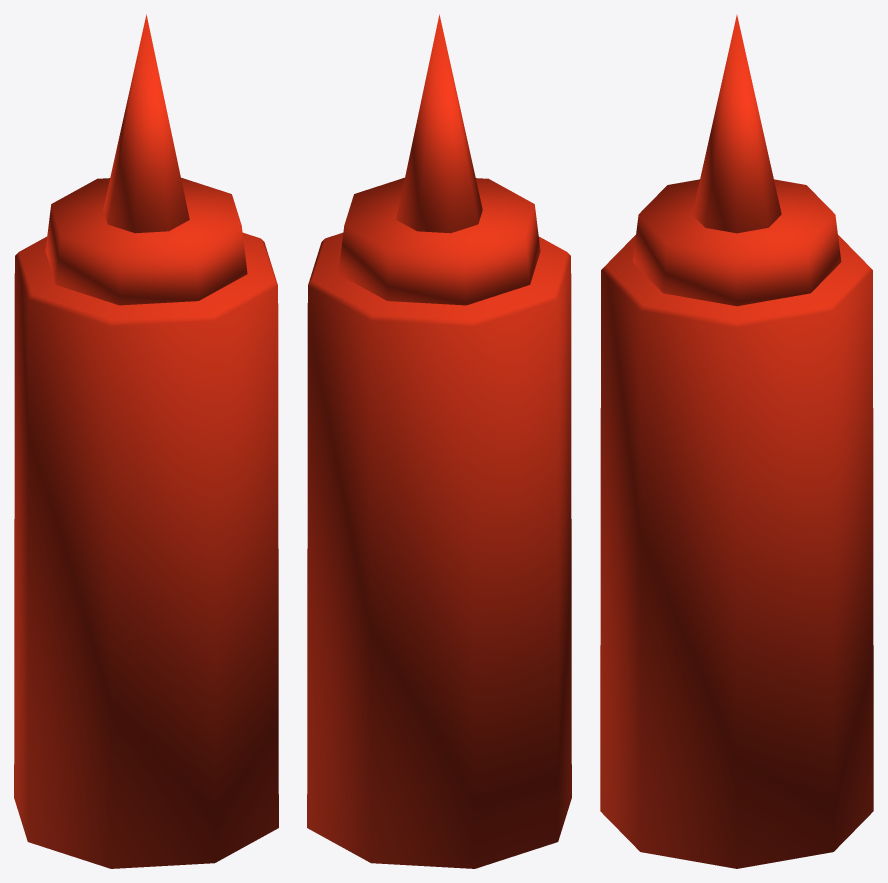
Rendered from BotolSaos.fbx.
The picture shows the model from 3 angles, left to right: view 1: azimuth 30°, elevation 25°; view 2: azimuth 150°, elevation 25°; view 3: azimuth 270°, elevation 25°; orthographic projection.
Parts seen in each view (by area): view 1: BotolSaos_LOD0; view 2: BotolSaos_LOD0; view 3: BotolSaos_LOD0.
Boxes of the visible parts, bbox=[...] form: BotolSaos_LOD0: bbox=[14, 14, 278, 868]; BotolSaos_LOD0: bbox=[307, 14, 571, 868]; BotolSaos_LOD0: bbox=[600, 15, 873, 868].
Size of what is drawn, in the model's own units: 200 by 643 by 200.
